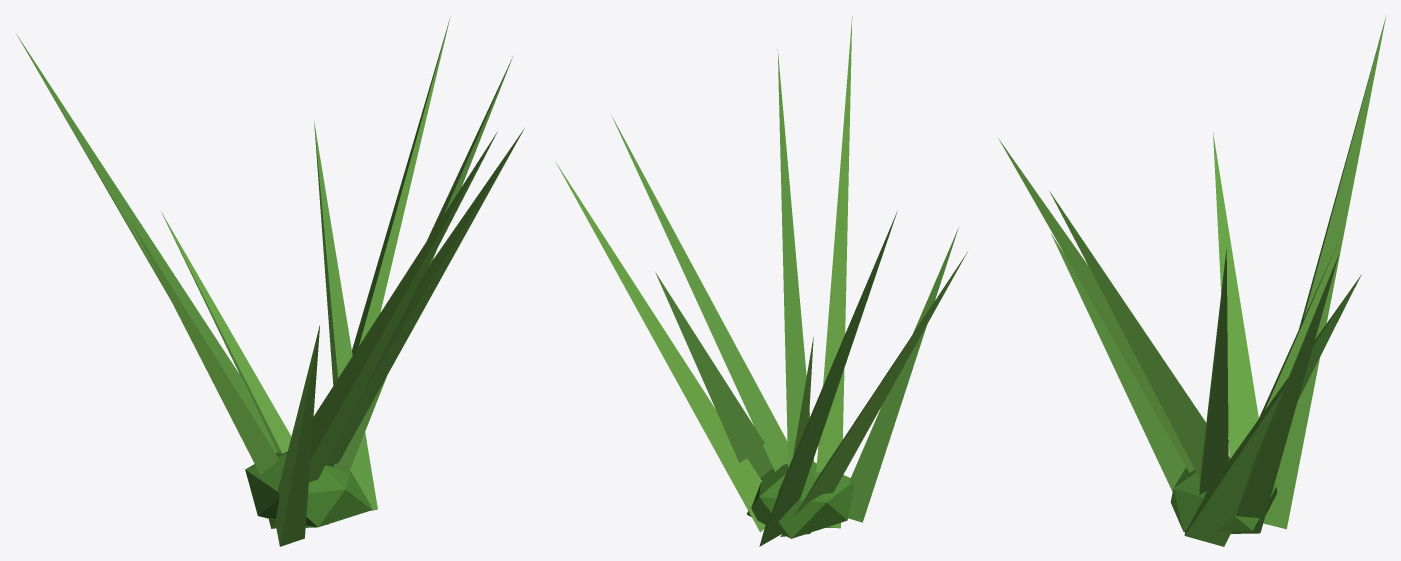
Rendered from HS_LP_Water_Plants_01.fbx.
The picture shows the model from 3 angles, left to right: view 1: azimuth 30°, elevation 25°; view 2: azimuth 150°, elevation 25°; view 3: azimuth 270°, elevation 25°; orthographic projection. The views are drawn at different scales.
Visible parts, largest first — view 1: HS_LP_Water_Plants_01; view 2: HS_LP_Water_Plants_01; view 3: HS_LP_Water_Plants_01.
Part boxes in pixels (<box>): HS_LP_Water_Plants_01: <box>16,16,524,546</box>; HS_LP_Water_Plants_01: <box>555,16,967,546</box>; HS_LP_Water_Plants_01: <box>998,17,1385,546</box>.
Size of the model in its own units: 87.03 by 96.57 by 79.39.
